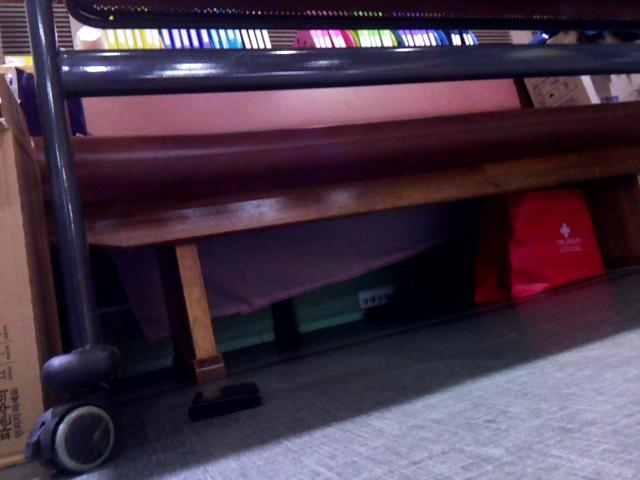wallet: (185, 376, 267, 427)
